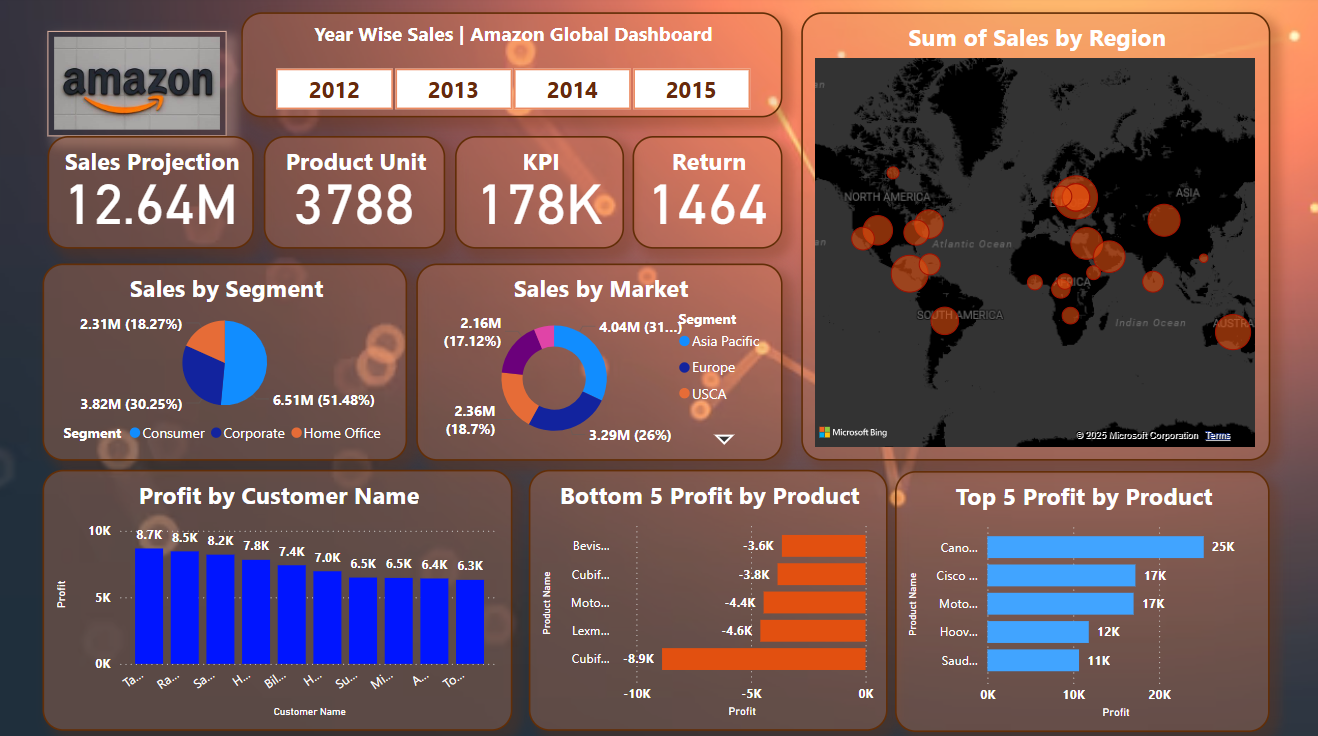

The dashboard page shown, as its layout file describes it:
{"tool":"powerbi","page":{"name":"Amazon Global Dashboard","canvas":[1280,720],"ordinal":0},"visuals":[{"type":"slicer","title":"Year Wise Sales | Amazon Global Dashboard","fields":{"Values":["Orders.Year"]},"box":[237.7,15.7,522.4,101.3],"z":0},{"type":"image","box":[50.7,33.8,172.5,101.3],"z":1000},{"type":"card","title":"Sales Projection","fields":{"Values":["Orders.Sales"]},"box":[50.7,135.1,199.1,108.6],"z":2000},{"type":"card","title":"Product Unit ","fields":{"Values":["Orders.Product Name"]},"box":[259.4,135.1,174.9,108.6],"z":3000},{"type":"card","title":"KPI","fields":{"Values":["Orders.Quantity"]},"box":[444,135.1,162.9,108.6],"z":4000},{"type":"card","title":"Return","fields":{"Values":["Orders.Ship Date"]},"box":[615.3,135.1,144.8,108.6],"z":5000},{"type":"pieChart","title":"Sales by Segment ","fields":{"Y":["Orders.Sales"],"Category":["Orders.Segment"]},"box":[45.8,258.2,352.3,190.6],"z":6000},{"type":"donutChart","title":"Sales by Market ","fields":{"Y":["Orders.Sales"],"Category":["Orders.Market"]},"box":[406.6,258.2,353.5,190.6],"z":7000},{"type":"columnChart","title":"Profit by Customer Name ","fields":{"Category":["Orders.Customer Name"],"Y":["Orders.Profit"]},"box":[45.8,457.2,453.6,252.1],"z":8000},{"type":"clusteredBarChart","title":"Bottom 5 Profit by Product","fields":{"Y":["Orders.Profit"],"Category":["Orders.Product Name"]},"box":[515.2,457.2,346.2,252.1],"z":9000},{"type":"clusteredBarChart","title":"Top 5 Profit by Product ","fields":{"Y":["Orders.Profit"],"Category":["Orders.Product Name"]},"box":[868.6,458.4,361.9,252.1],"z":10000},{"type":"map","fields":{"Category":["Orders.Region"],"Size":["Orders.Sales"]},"box":[778.2,15.7,452.4,433.1],"z":11000}]}

Visuals, with their boxes in screenshot pixels (x1, y1, x2, y2), scaled from the page's 1280x720 canvas onto the 1318x736 screenshot:
"Year Wise Sales | Amazon Global Dashboard" slicer: [left=245, top=16, right=783, bottom=120]
image: [left=52, top=35, right=230, bottom=138]
"Sales Projection" card: [left=52, top=138, right=257, bottom=249]
"Product Unit " card: [left=267, top=138, right=447, bottom=249]
"KPI" card: [left=457, top=138, right=625, bottom=249]
"Return" card: [left=634, top=138, right=783, bottom=249]
"Sales by Segment " pieChart: [left=47, top=264, right=410, bottom=459]
"Sales by Market " donutChart: [left=419, top=264, right=783, bottom=459]
"Profit by Customer Name " columnChart: [left=47, top=467, right=514, bottom=725]
"Bottom 5 Profit by Product" clusteredBarChart: [left=530, top=467, right=887, bottom=725]
"Top 5 Profit by Product " clusteredBarChart: [left=894, top=469, right=1267, bottom=726]
map - Orders.Region x Orders.Sales: [left=801, top=16, right=1267, bottom=459]
